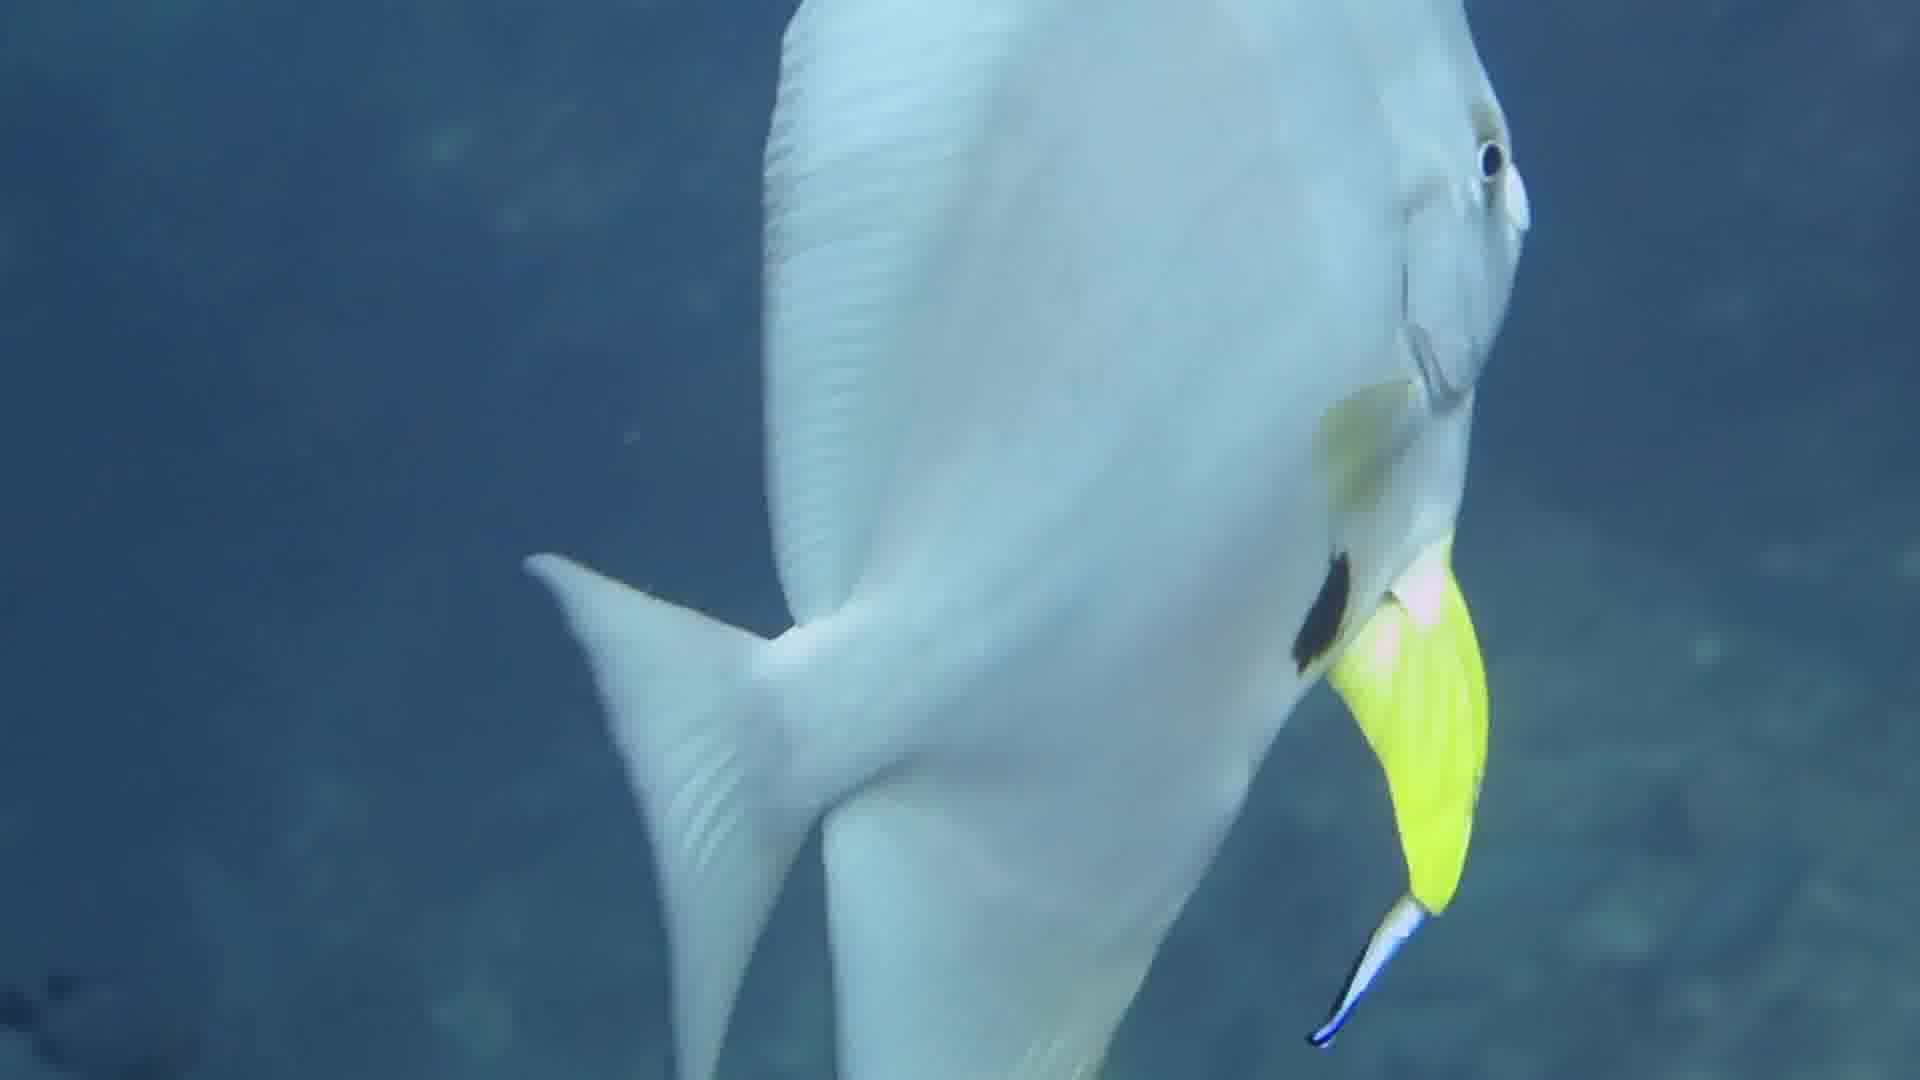Platax teira: (526, 1, 1557, 1069)
